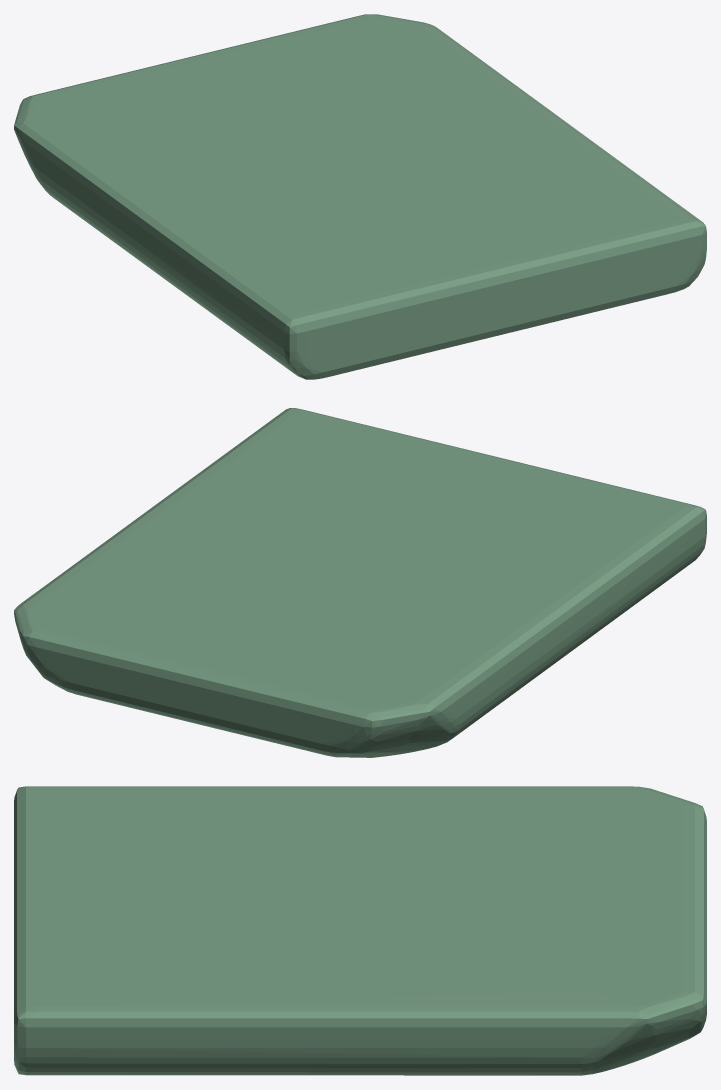
Rendered from torso_link_part_0.obj.
3 renders of one model, top to bottom at view 1: azimuth 30°, elevation 25°; view 2: azimuth 150°, elevation 25°; view 3: azimuth 270°, elevation 25°, orthographic. The views are drawn at different scales.
Bounding box in the file's own units: 0.1494 × 0.0224 × 0.1868.
